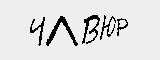В: (81, 15, 100, 49)
Л: (45, 16, 78, 49)
Р: (115, 17, 132, 41)
Ч: (28, 17, 45, 46)
Ю: (98, 10, 116, 42)
